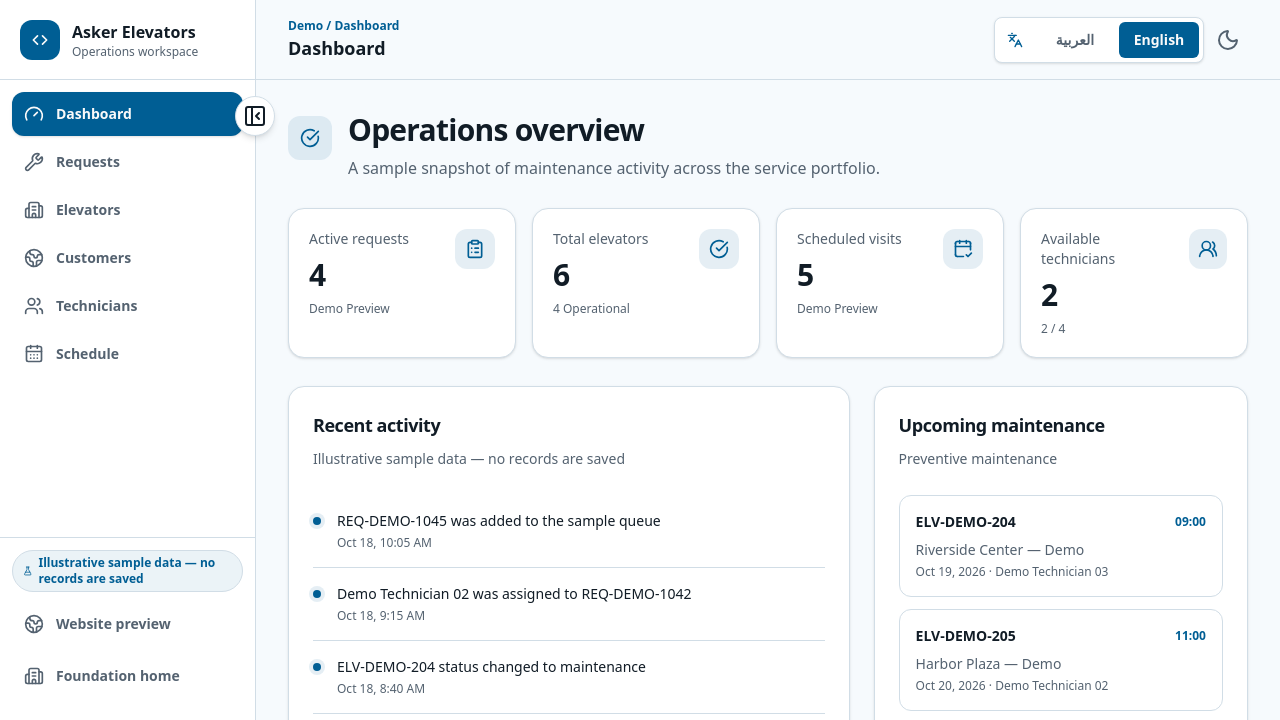
Test: interactive frontend preview › persists a selected dark theme
Click the button named "Use dark theme" at [1228, 40], box [1208,20,1248,60]
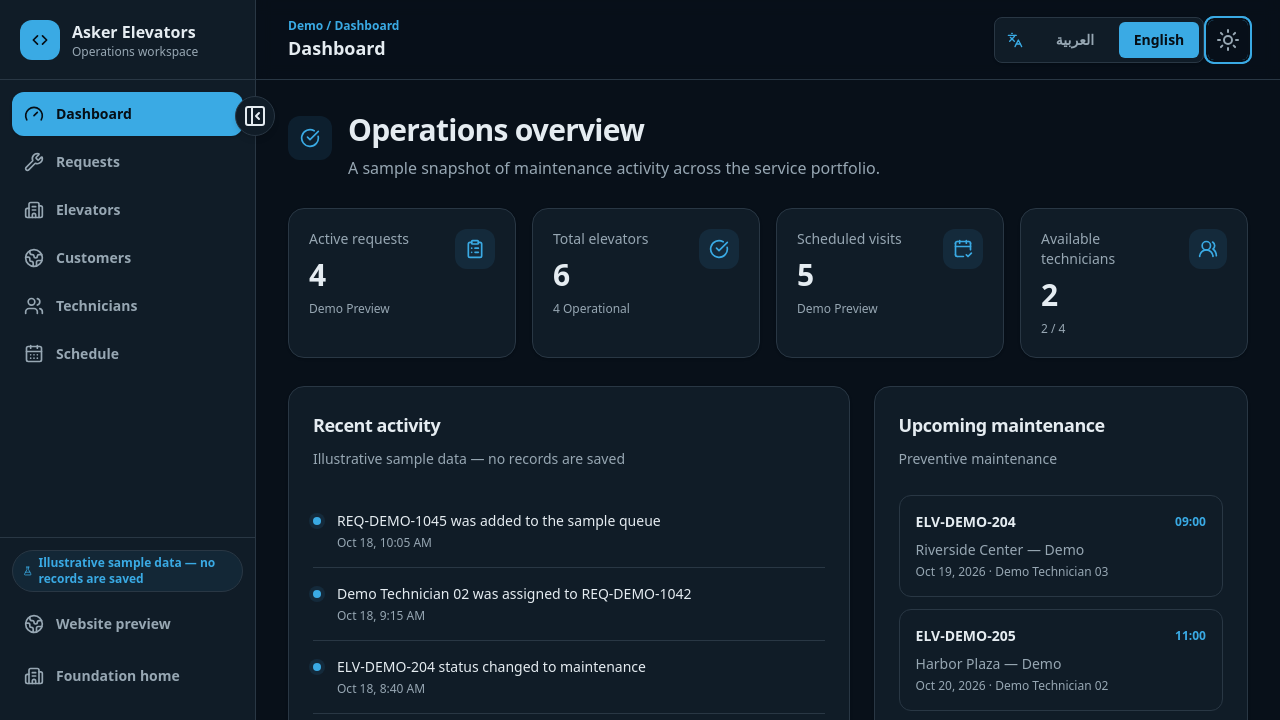
Check: the button named "Use light theme" is shown, box [1208,20,1248,60]
